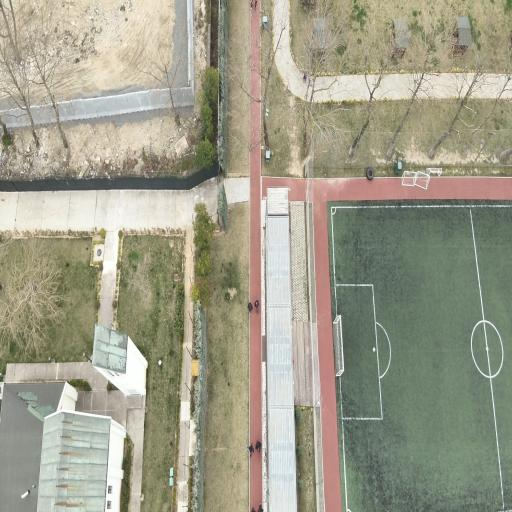person: (248, 443, 254, 456), (256, 441, 261, 452), (255, 300, 259, 312), (248, 302, 252, 312), (258, 504, 263, 511), (255, 0, 257, 9), (252, 507, 255, 511), (251, 0, 252, 9)
